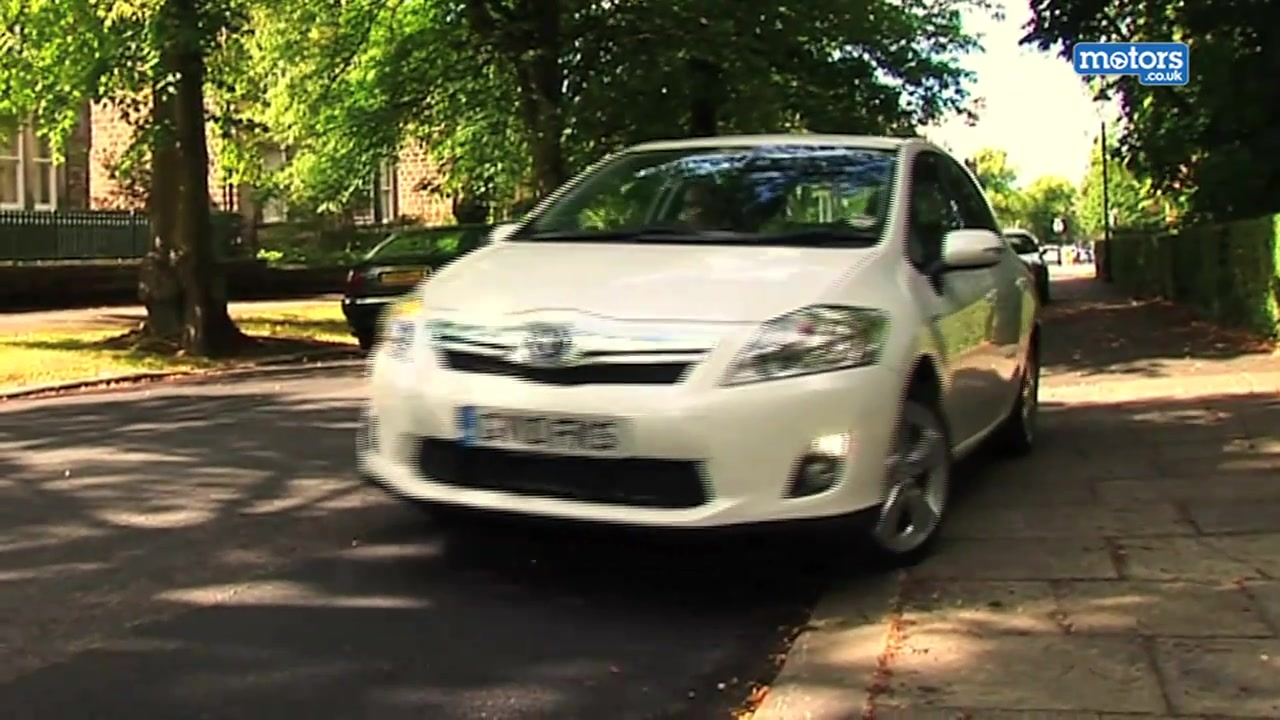car: (357, 135, 1050, 560), (345, 219, 495, 360), (1002, 226, 1053, 301)
